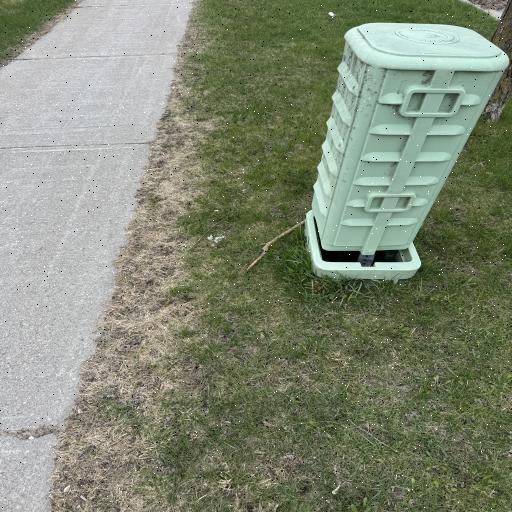Electrical Box: (303, 22, 511, 278)
